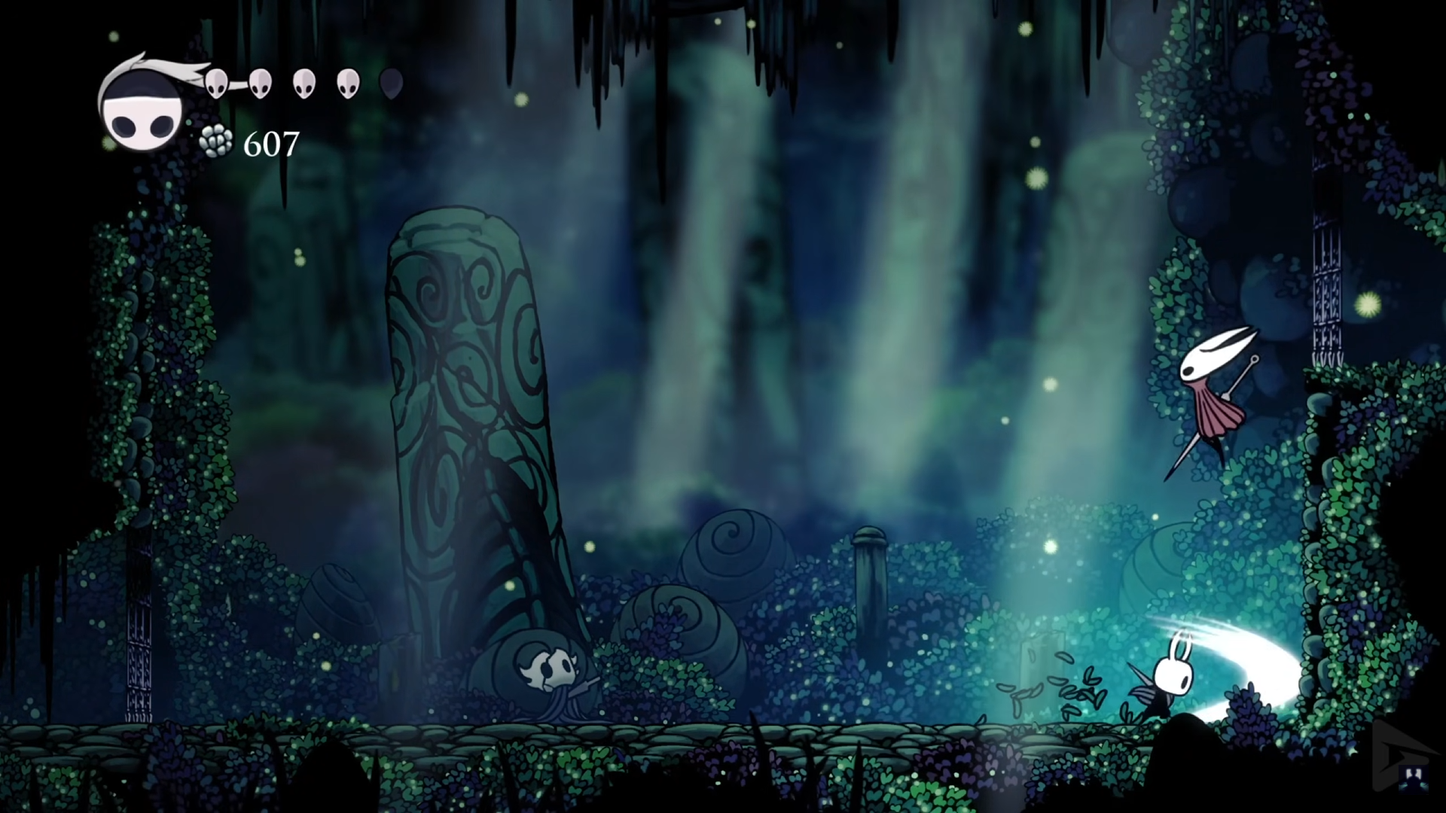HK: (1137, 631, 1201, 727)
